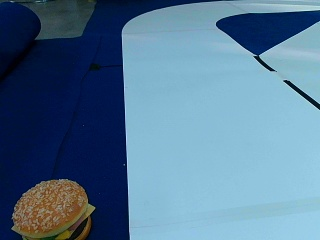burger: (13, 178, 95, 238)
